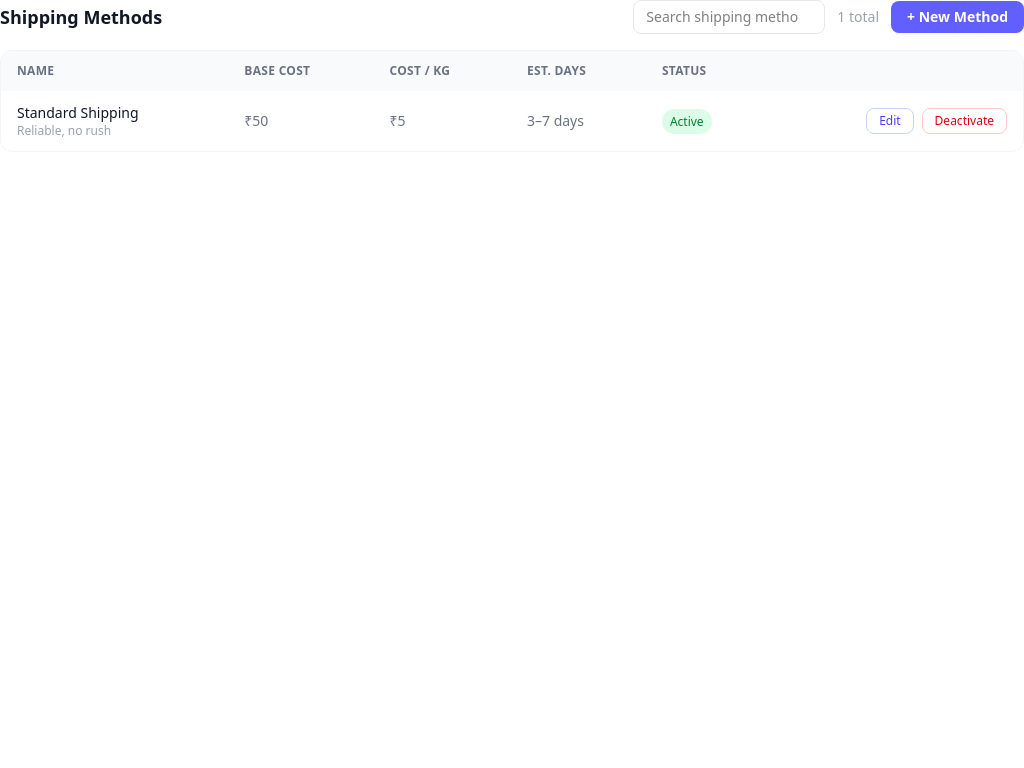
Test: ShippingMethodsTab › creates a shipping method via the modal and adds it to the list
This screenshot has width=1024, height=768.
Expected: the text "Standard Shipping" is shown, [17,103,138,122]
Click the button "+ New Method" at coordinates (958, 17), box [891,1,1023,33]
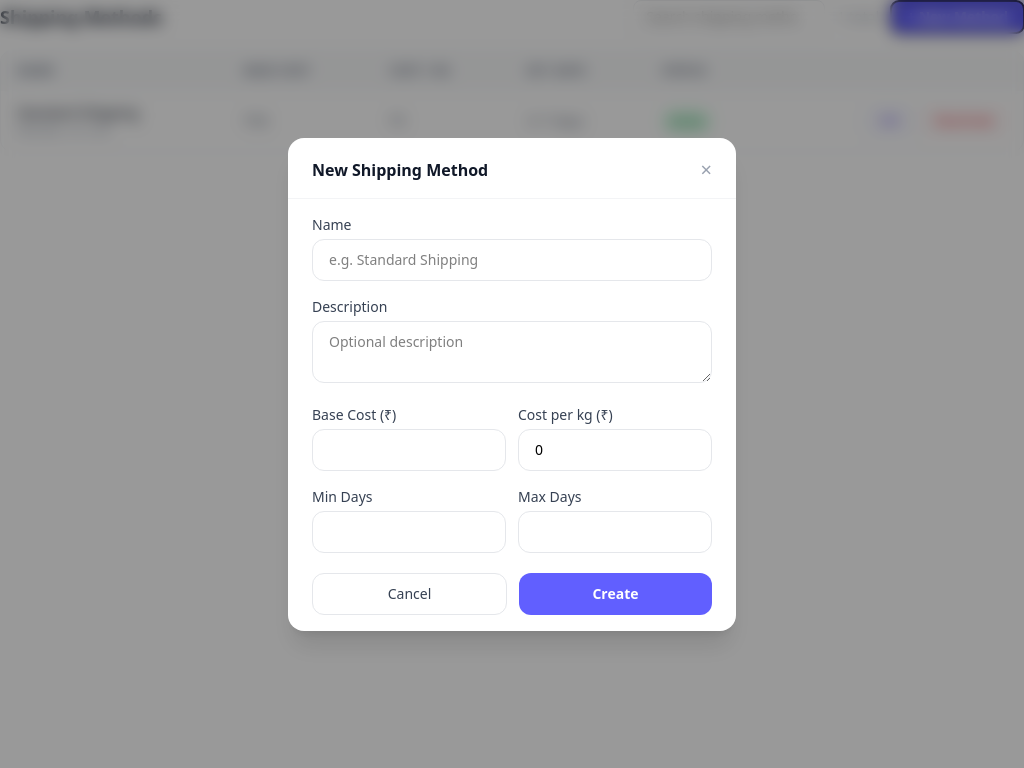
Type "Economy Shipping" into the field labelled "Name" at coordinates (512, 260), box [312,238,712,280]
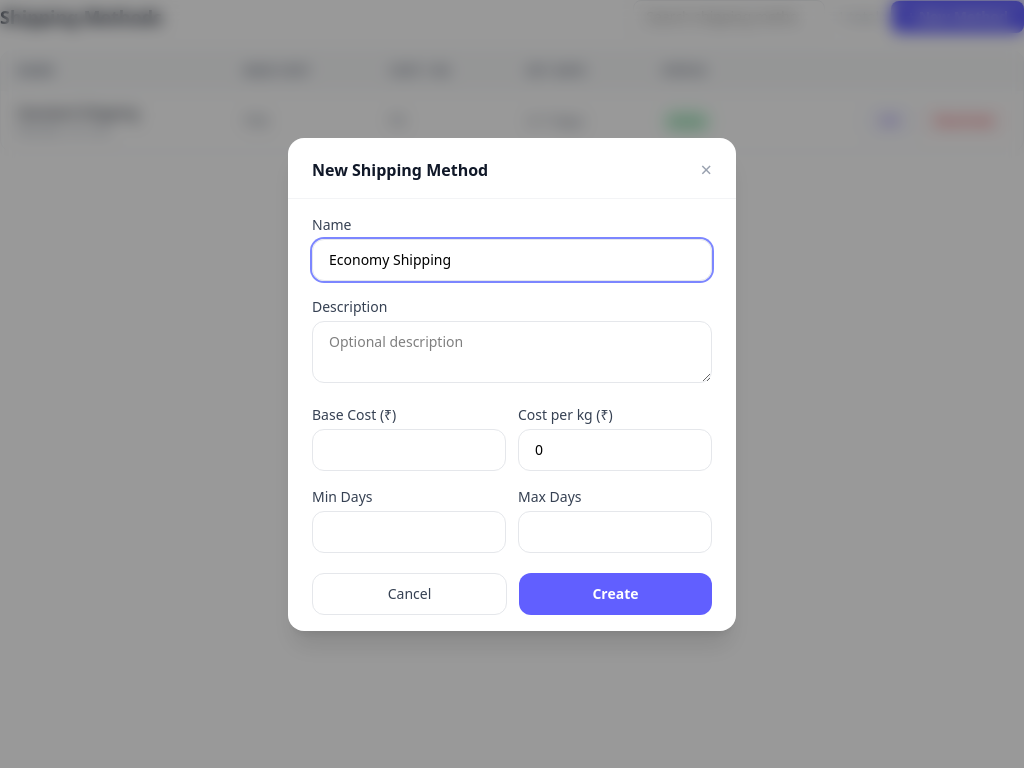
Type "20" into the number field labelled "Base Cost (₹)" at coordinates (409, 450), box [312,428,506,470]
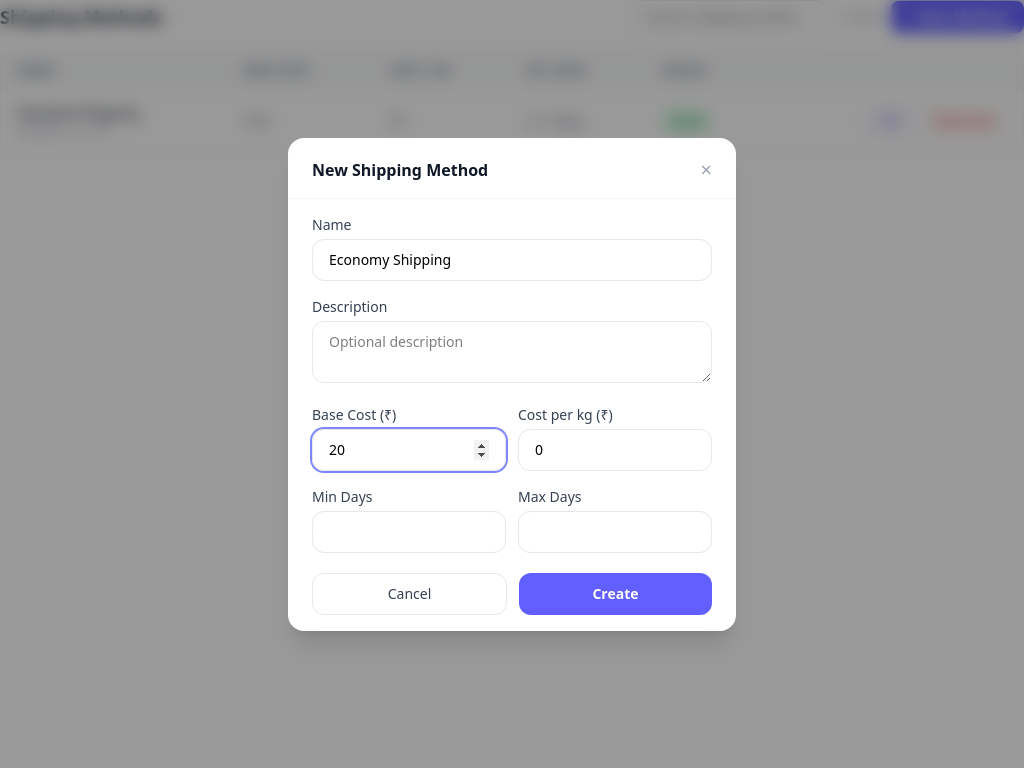
Type "7" into the number field labelled "Min Days" at coordinates (409, 532), box [312,510,506,552]
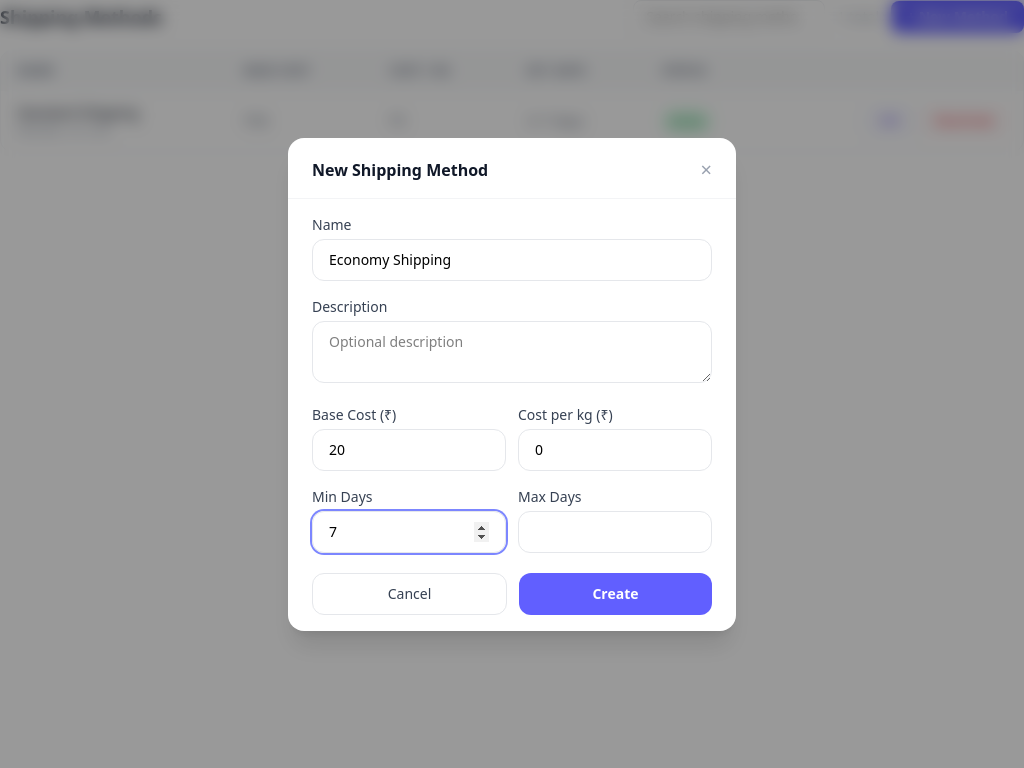
Type "14" into the number field labelled "Max Days" at coordinates (615, 532), box [518,510,712,552]
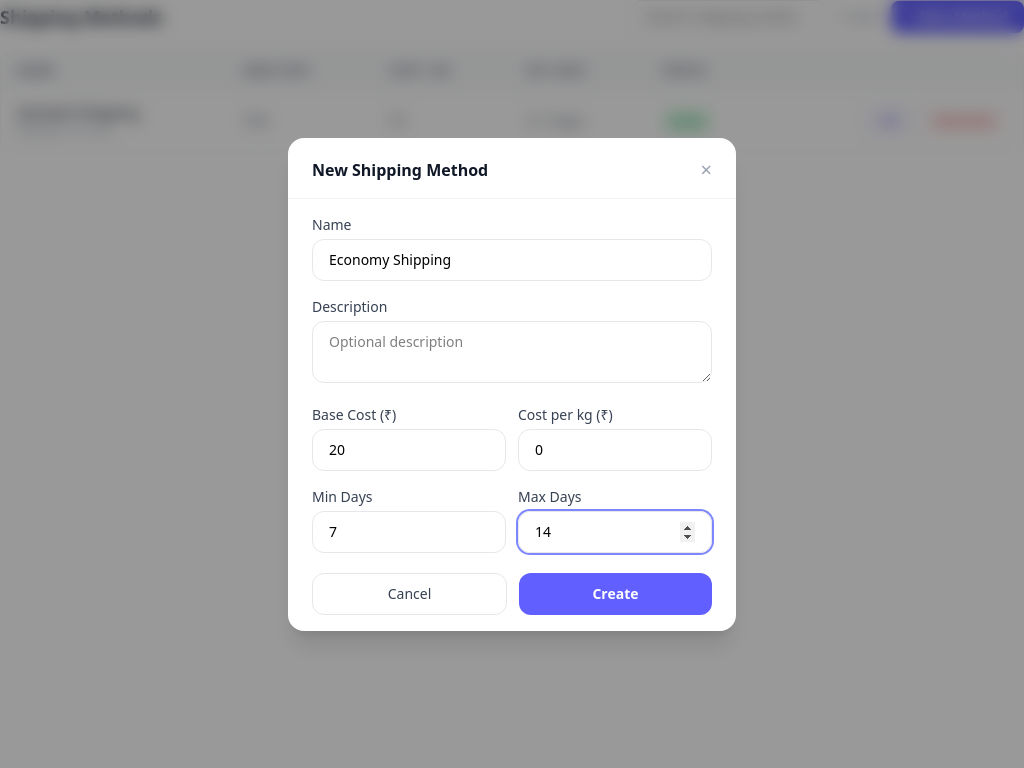
Click the button "Create" at coordinates (616, 594), box [519,572,712,614]
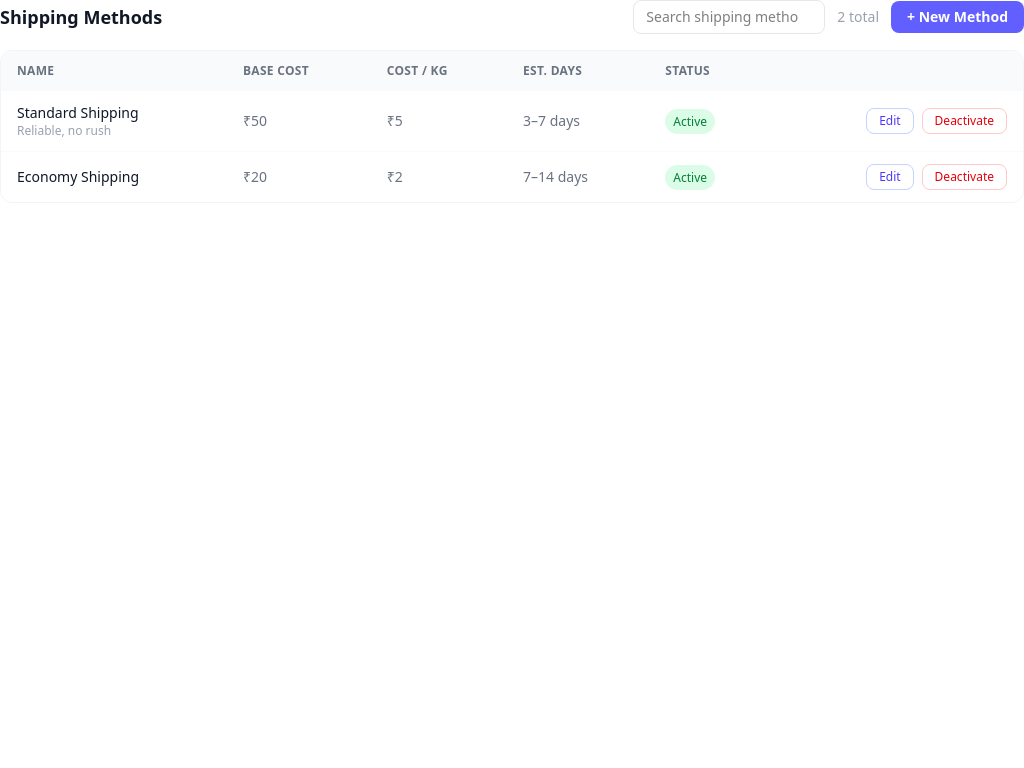
Now the text "Economy Shipping" is shown, box [17,167,139,186]
